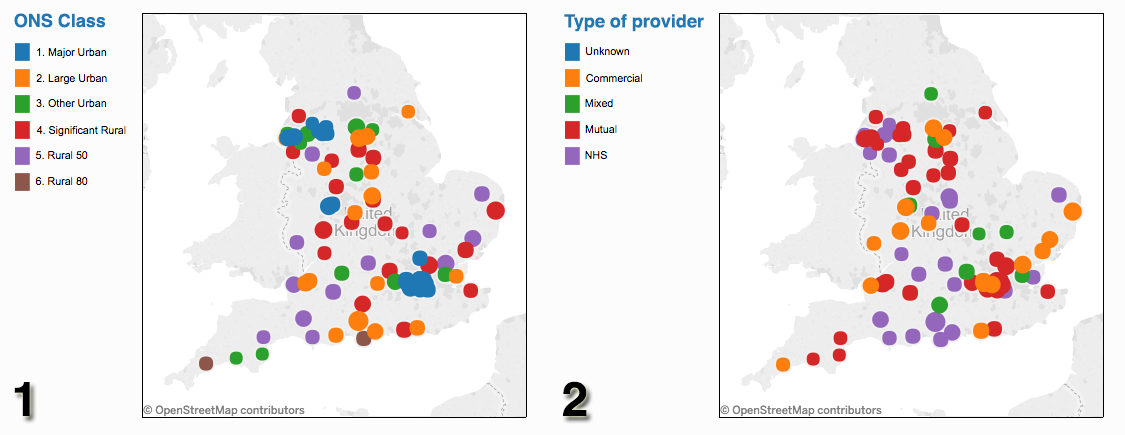

The page's visual inventory and layout, read from the dashboard file:
{"tool":"tableau","page":{"name":"Dashboard 1","canvas":[600,350],"ordinal":0},"visuals":[{"type":"worksheet","title":"Sheet 1","mark":"Bar","rows":["Gender"],"cols":["Number"],"box":[0,0,440,147]},{"type":"legend","title":"Sheet 1","param":"[federated.0nu8bq403tzb9z1fh35ge1srv0x0].[none:Gender:nk]","box":[440,0,160,70]},{"type":"legend","title":"Sheet 2","param":"[federated.0nu8bq403tzb9z1fh35ge1srv0x0].[Goal of Evening (group)]","box":[440,70,160,66]},{"type":"worksheet","title":"Sheet 2","mark":"Automatic","rows":["Goal of Evening "],"cols":["Number 2"],"box":[0,147,440,203]}]}

Visuals, with their boxes on the page's 600x350 design canvas (x1, y1, x2, y2). These are canvas units, not pixel positions in the 1125x435 screenshot, which may show the page scaled, cropped or inside an application window:
"Sheet 1" worksheet (Bar marks): region(0, 0, 440, 147)
"Sheet 1" legend: region(440, 0, 600, 70)
"Sheet 2" legend: region(440, 70, 600, 136)
"Sheet 2" worksheet: region(0, 147, 440, 350)
